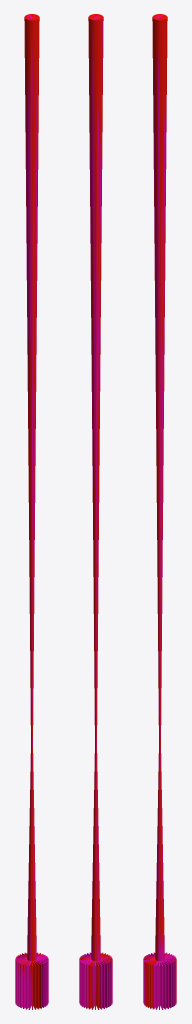
File: laser2.glb
3 renders of one model, left to right at view 1: azimuth 30°, elevation 25°; view 2: azimuth 150°, elevation 25°; view 3: azimuth 330°, elevation 25°, orthographic.
Visible parts, largest first — view 1: Cylinder; view 2: Cylinder; view 3: Cylinder.
Boxes of the visible parts, <box> form: Cylinder: <box>15,14,48,1009</box>; Cylinder: <box>79,14,112,1009</box>; Cylinder: <box>143,14,176,1009</box>.
Bounding box in the file's own units: 0.6682 × 22 × 0.6682.
Materials: 1 (1 with a texture image).
